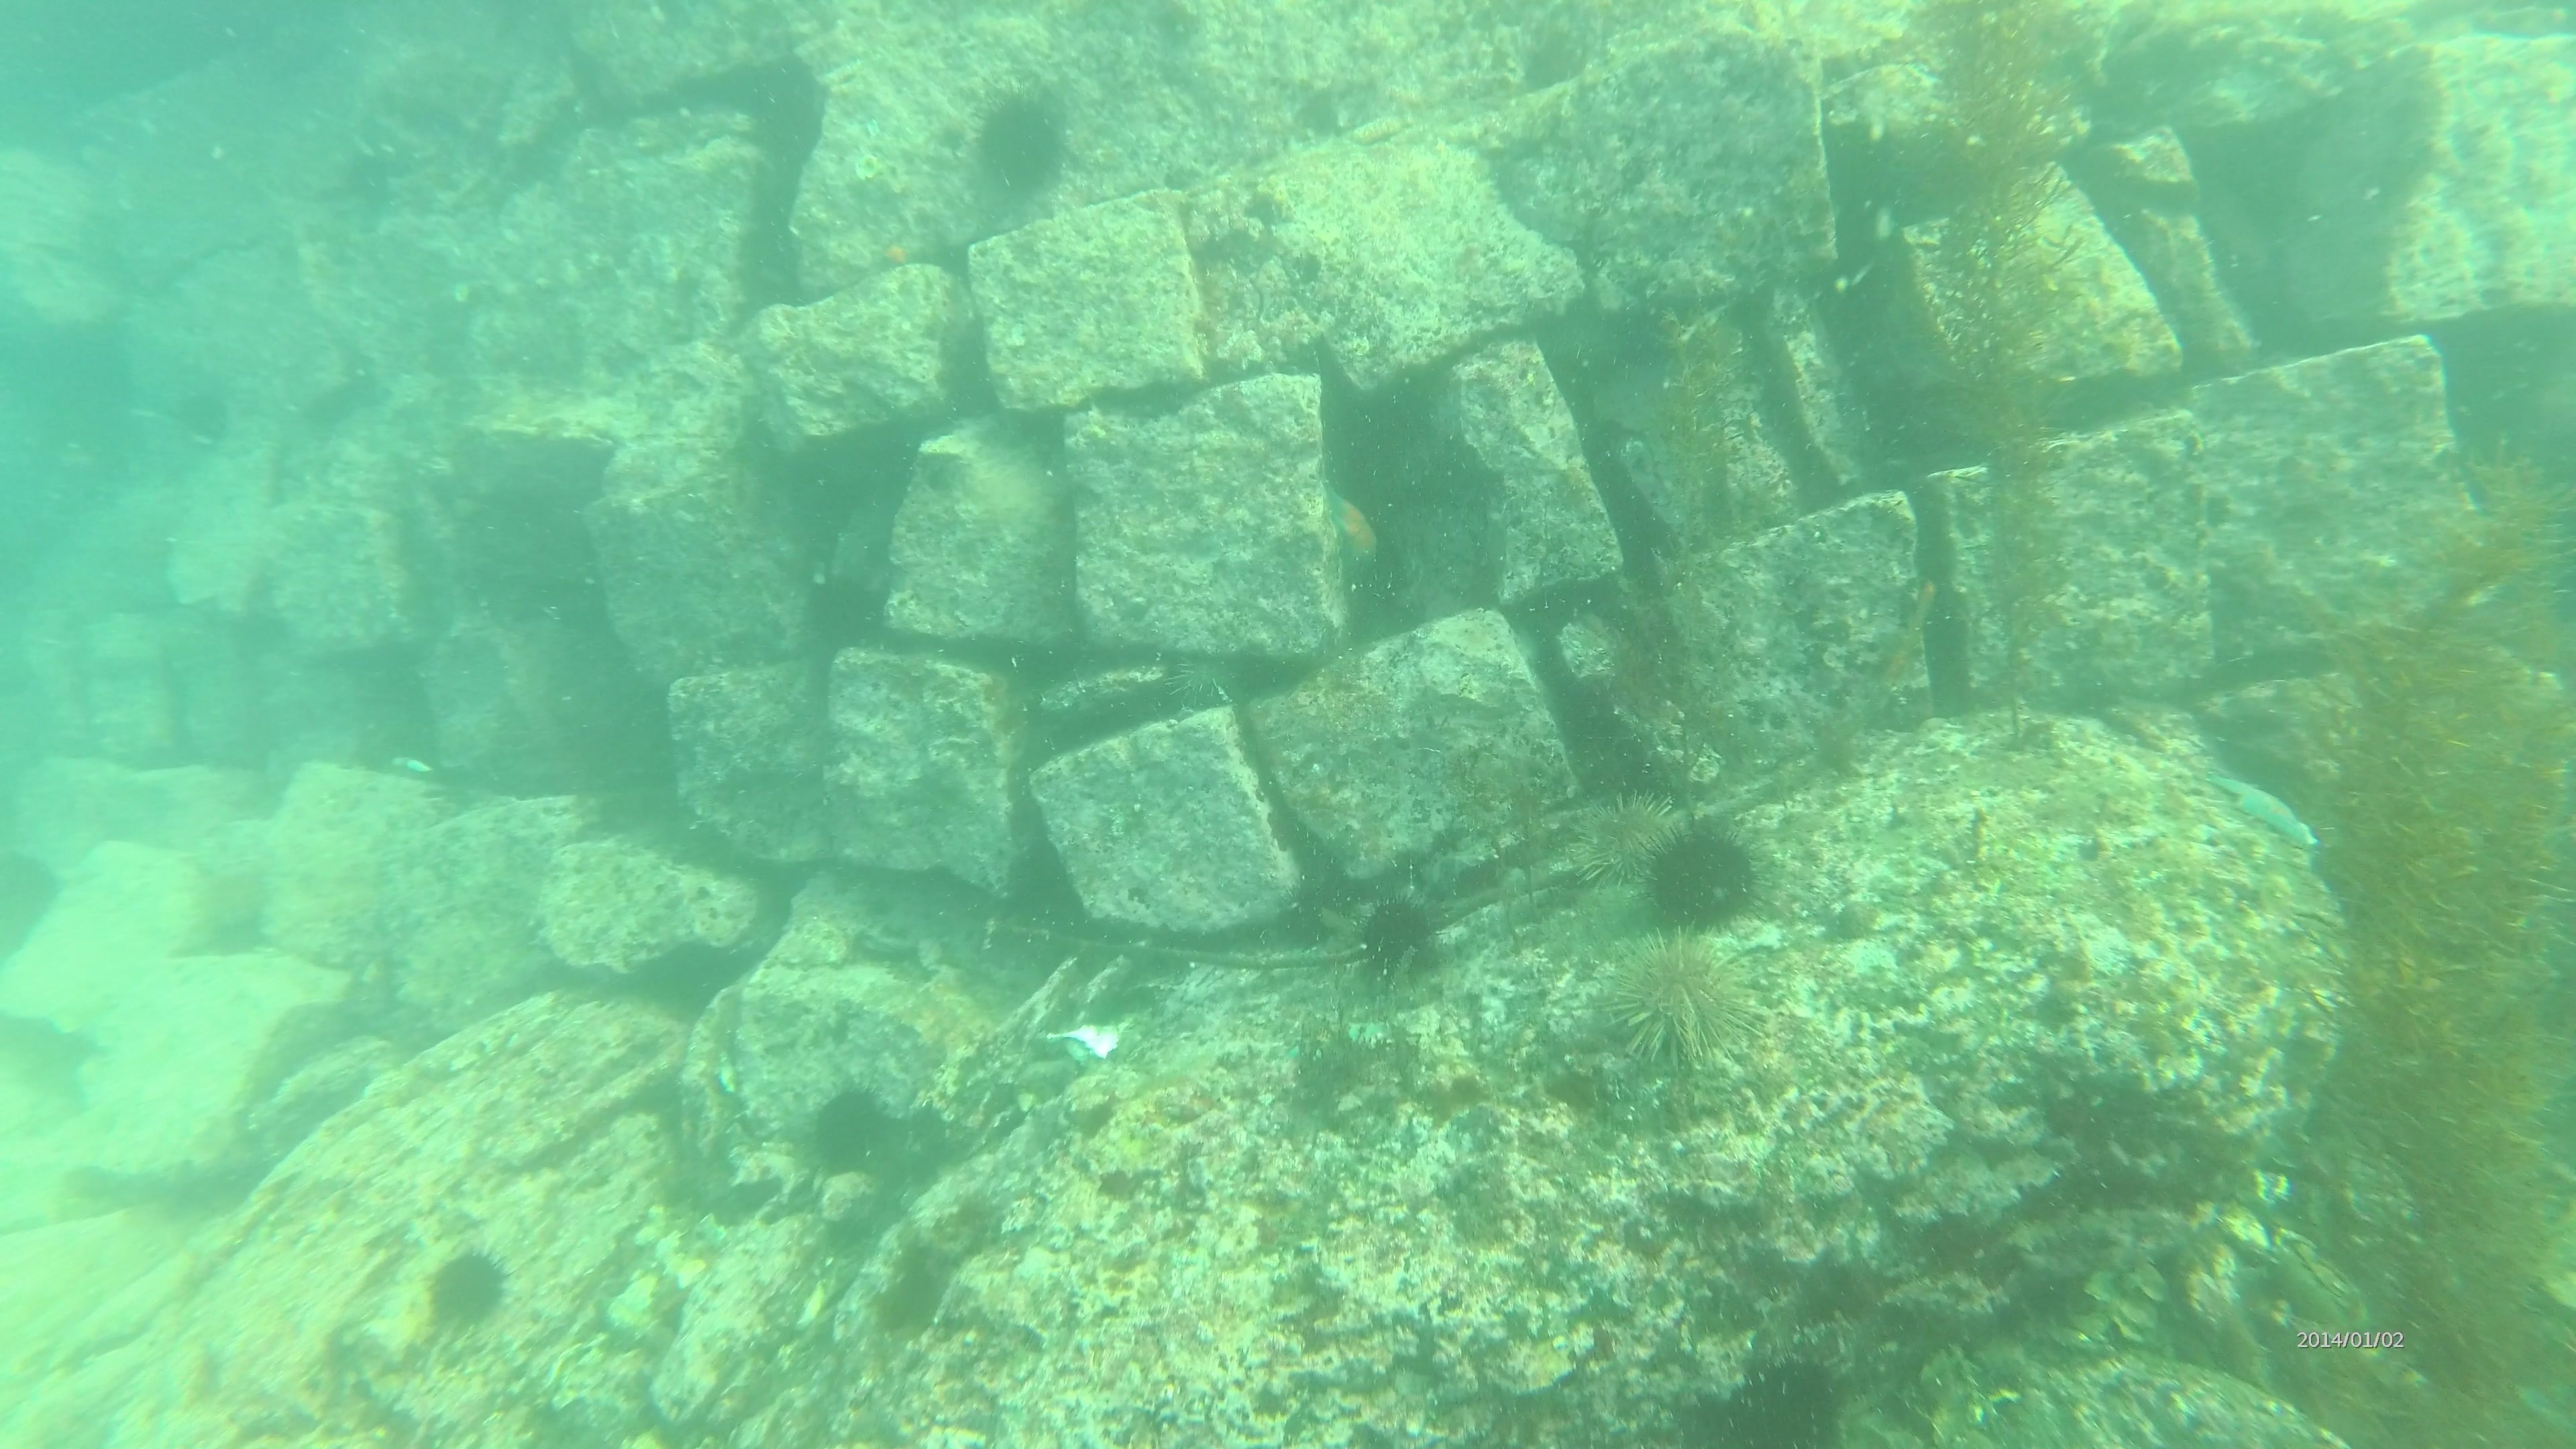echinus: (1594, 925, 1767, 1077), (1635, 814, 1771, 938), (1702, 1348, 1856, 1447), (1562, 786, 1695, 893), (964, 81, 1081, 203), (1343, 886, 1454, 994), (798, 1077, 904, 1184), (794, 563, 897, 660), (418, 1240, 517, 1338), (0, 840, 69, 962), (168, 375, 239, 451)
starfish: (2201, 761, 2327, 858), (1311, 469, 1389, 589)
